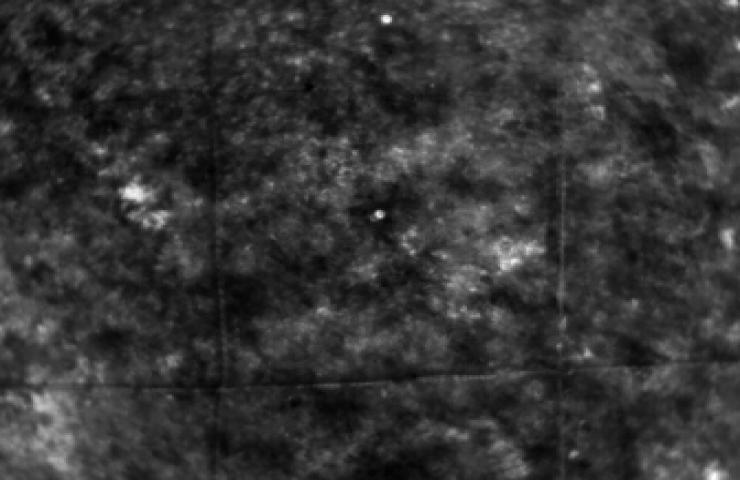landmines: (369, 209, 388, 226)
